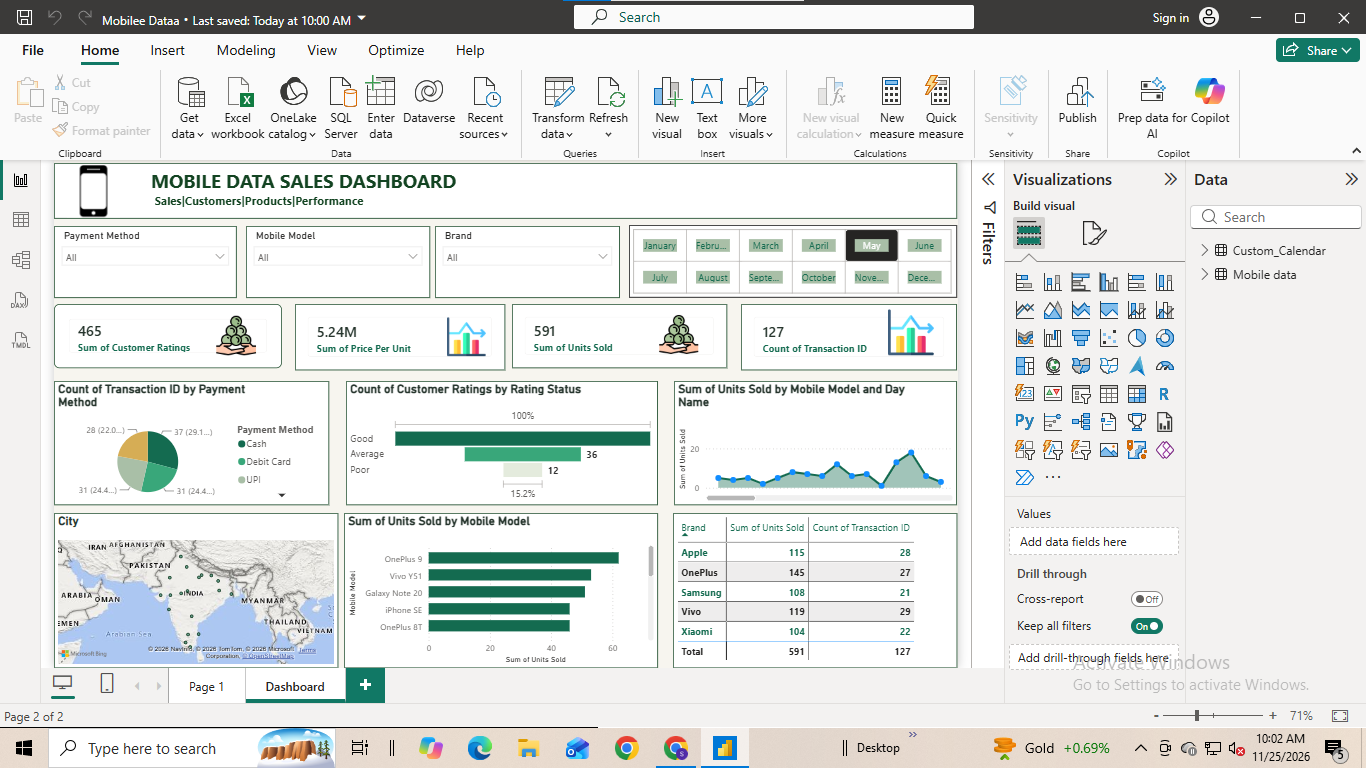

What the dashboard file says about the page in this screenshot:
{"tool":"powerbi","page":{"name":"Dashboard","canvas":[1280,720],"ordinal":1},"visuals":[{"type":"advancedSlicerVisual","fields":{"Values":["Custom_Calendar.DATE.Variation.Date Hierarchy.Month"]},"box":[815,92.1,464.9,103.5],"z":0},{"type":"cardVisual","fields":{"Data":["Sum(Mobile data.Customer Ratings)"]},"box":[0,204.1,323.1,90.7],"z":1000},{"type":"cardVisual","fields":{"Data":["CountNonNull(Mobile data.Transaction ID)"]},"box":[973.7,204.1,306.1,93.5],"z":2000},{"type":"cardVisual","fields":{"Data":["Sum(Mobile data.Price Per Unit)"]},"box":[341.6,204.1,297.6,93.5],"z":3000},{"type":"cardVisual","fields":{"Data":["Sum(Mobile data.Units Sold)"]},"box":[649.1,204.1,304.7,90.7],"z":4000},{"type":"image","box":[228.2,209.8,60.5,77.8],"z":5000},{"type":"image","box":[557,214,54.7,73.4],"z":6000},{"type":"image","box":[1182,209.8,64.8,69.1],"z":7000},{"type":"image","box":[856.1,209.8,59,74.9],"z":8000},{"type":"funnel","fields":{"Category":["Mobile data.Rating Status"],"Y":["CountNonNull(Mobile data.Customer Ratings)"]},"box":[413.9,313.2,442.2,175.7],"z":9000},{"type":"pieChart","fields":{"Y":["CountNonNull(Mobile data.Transaction ID)"],"Category":["Mobile data.Payment Method"]},"box":[0,313.2,389.8,175.7],"z":10000},{"type":"map","fields":{"Category":["Mobile data.City"]},"box":[0,500.3,402.5,219.7],"z":11000},{"type":"slicer","fields":{"Values":["Mobile data.Payment Method"]},"box":[0,93.5,259.4,102],"z":12000},{"type":"slicer","fields":{"Values":["Mobile data.Brand"]},"box":[540,93.5,262.2,102],"z":13000},{"type":"slicer","fields":{"Values":["Mobile data.Mobile Model"]},"box":[272.1,93.5,260.8,102],"z":14000},{"type":"clusteredBarChart","fields":{"Y":["Sum(Mobile data.Units Sold)"],"Category":["Mobile data.Mobile Model"]},"box":[411,500.3,445,219.7],"z":15000},{"type":"areaChart","fields":{"Category":["Mobile data.Mobile Model","Mobile data.Day Name"],"Y":["Sum(Mobile data.Units Sold)"]},"box":[878.7,313.2,401.1,175.7],"z":16000},{"type":"tableEx","fields":{"Values":["Mobile data.Brand","Sum(Mobile data.Units Sold)","CountNonNull(Mobile data.Transaction ID)"]},"box":[877.3,500.3,402.5,219.7],"z":17000},{"type":"textbox","box":[0,4.3,1279.8,79.4],"z":18000},{"type":"image","box":[0,7.1,112,73.7],"z":19000}]}

Visuals, with their boxes on the page's 1280x720 design canvas (x1, y1, x2, y2). These are canvas units, not pixel positions in the 1366x768 screenshot, which may show the page scaled, cropped or inside an application window:
advancedSlicerVisual - Custom_Calendar.DATE.Variation.Date Hierarchy.Month: locate(815, 92, 1280, 196)
cardVisual - Sum(Mobile data.Customer Ratings): locate(0, 204, 323, 295)
cardVisual - CountNonNull(Mobile data.Transaction ID): locate(974, 204, 1280, 298)
cardVisual - Sum(Mobile data.Price Per Unit): locate(342, 204, 639, 298)
cardVisual - Sum(Mobile data.Units Sold): locate(649, 204, 954, 295)
image: locate(228, 210, 289, 288)
image: locate(557, 214, 612, 287)
image: locate(1182, 210, 1247, 279)
image: locate(856, 210, 915, 285)
funnel - Mobile data.Rating Status x CountNonNull(Mobile data.Customer Ratings): locate(414, 313, 856, 489)
pieChart - CountNonNull(Mobile data.Transaction ID) x Mobile data.Payment Method: locate(0, 313, 390, 489)
map - Mobile data.City: locate(0, 500, 402, 720)
slicer - Mobile data.Payment Method: locate(0, 94, 259, 196)
slicer - Mobile data.Brand: locate(540, 94, 802, 196)
slicer - Mobile data.Mobile Model: locate(272, 94, 533, 196)
clusteredBarChart - Sum(Mobile data.Units Sold) x Mobile data.Mobile Model: locate(411, 500, 856, 720)
areaChart - Mobile data.Mobile Model x Mobile data.Day Name: locate(879, 313, 1280, 489)
tableEx - Mobile data.Brand x Sum(Mobile data.Units Sold): locate(877, 500, 1280, 720)
textbox: locate(0, 4, 1280, 84)
image: locate(0, 7, 112, 81)
